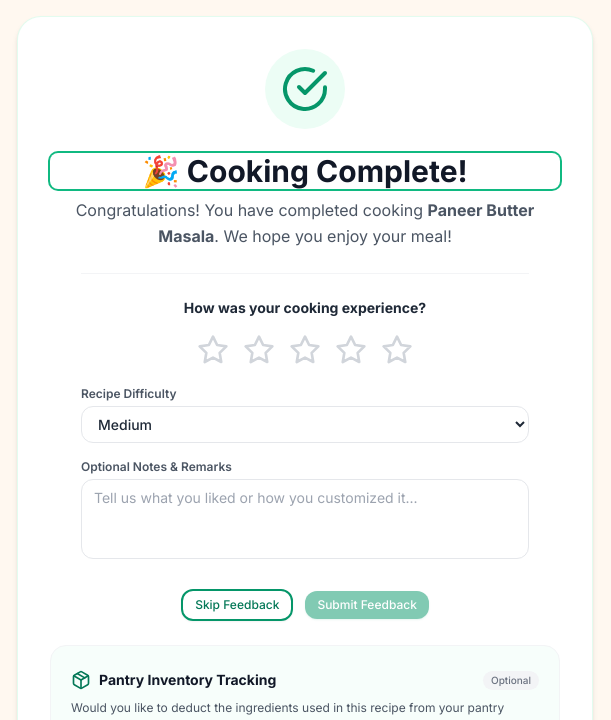
Test: CookingPage - Advanced Navigation & Progress (9.4) › Cooking Session Polish & Reliability (9.10) › Phase 11.3 — Recipe Feedback & Ratings Flow › displays error banner if feedback submission fails
expect the heading "🎉 Cooking Complete!" is shown: met, box [50, 153, 560, 189]
// Set rating
Click the button named "rate": coordinates (397, 350) [377, 330, 417, 370]
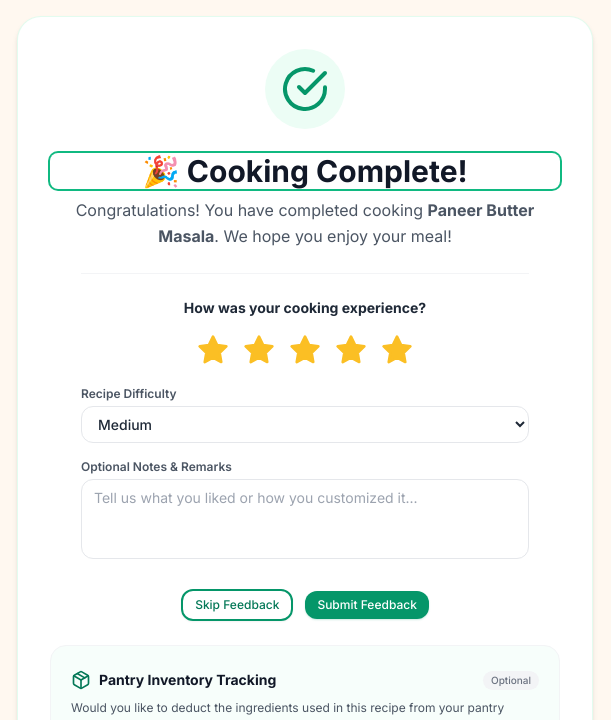
Click the button "Submit Feedback": coordinates (367, 605) [305, 591, 429, 619]
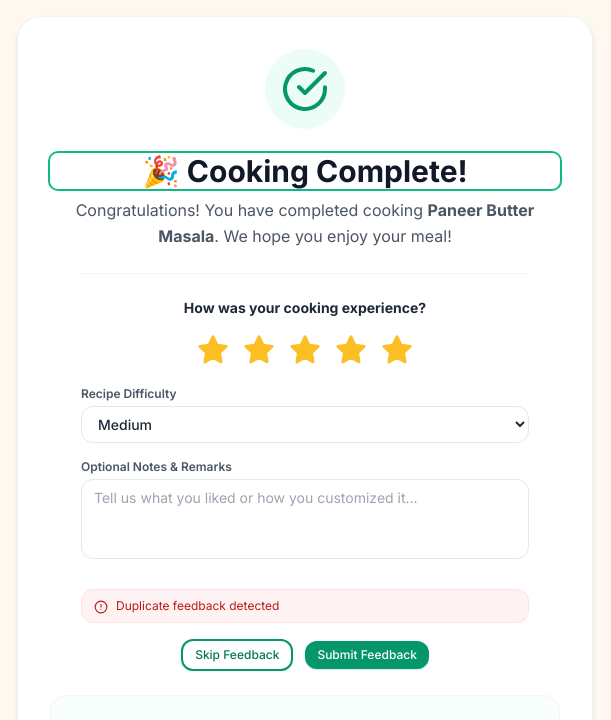
expect the text "Duplicate feedback detected" is shown: met, box [116, 598, 279, 614]
